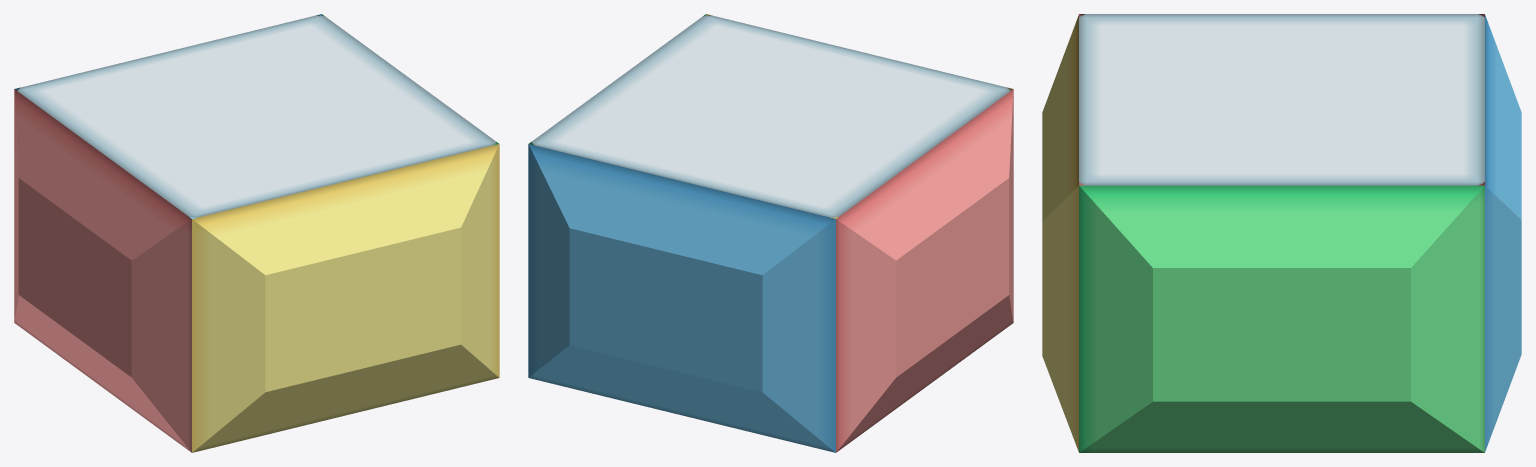
Rendered from Env_Wall_Church_BaseS.obj.
3 views of the same model, side by side, from view 1: azimuth 30°, elevation 25°; view 2: azimuth 150°, elevation 25°; view 3: azimuth 270°, elevation 25° (orthographic). The views are drawn at different scales.
Parts seen in each view (by area): view 1: cube; view 2: cube; view 3: cube.
Boxes of the visible parts, x1,y1,x2,y2 form: cube: (14, 14, 499, 452); cube: (528, 14, 1013, 452); cube: (1042, 14, 1521, 452).
Bounding box in the file's own units: 0.8125 × 0.5 × 0.8125.
Materials: 1 (1 with a texture image).
